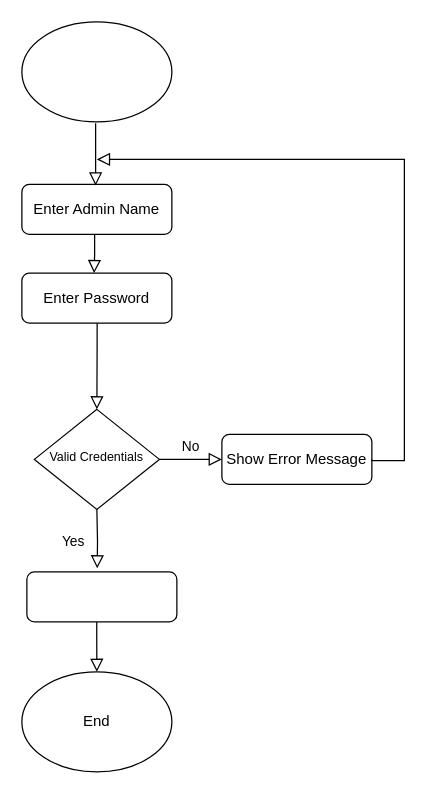
This 439x794 diagram has some shape labels left out. The shapes that lost their labels are listed below. From the top down, each one's centre as x and y in pixels, then its label:
At pixel 96 71: "Start".
At pixel 101 596: "Go To Home Page".
